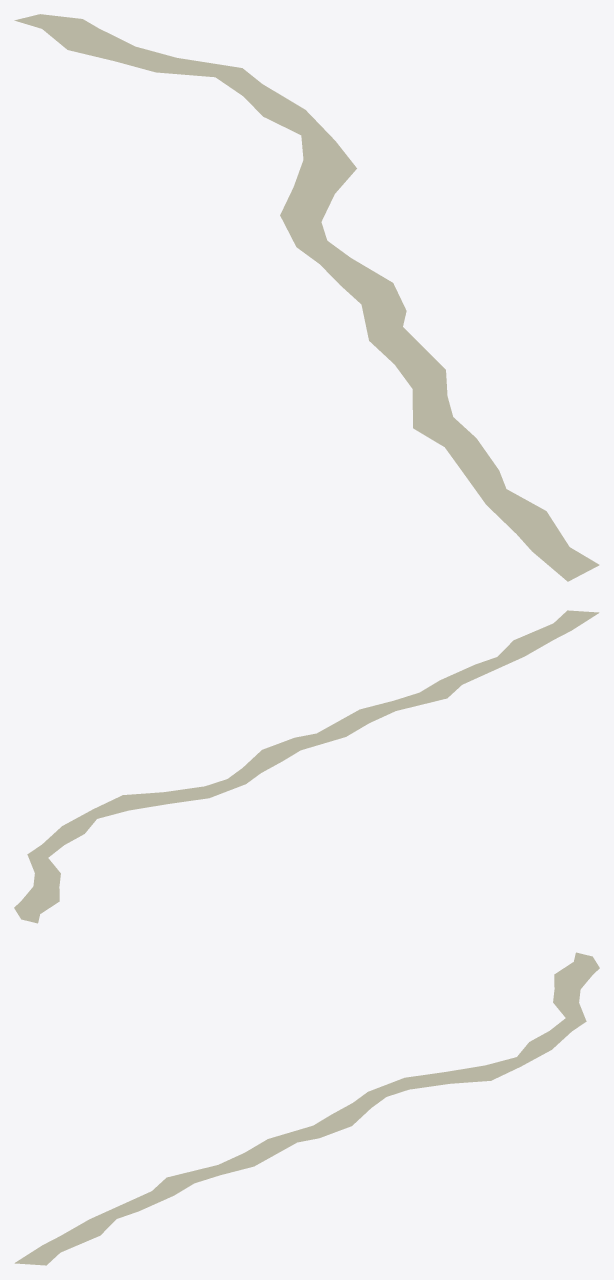
Rendered from map_world_1_strada.dae.
3 renders of one model, top to bottom at view 1: azimuth 30°, elevation 25°; view 2: azimuth 150°, elevation 25°; view 3: azimuth 330°, elevation 25°, orthographic. The views are drawn at different scales.
Parts seen in each view (by area): view 1: Plane; view 2: Plane; view 3: Plane.
Part boxes in pixels (x1,y1,x2,y2): Plane: (14, 14, 599, 581); Plane: (14, 610, 599, 923); Plane: (14, 952, 599, 1265).
Bounding box in the file's own units: 8.95 × 38.55 × 0.
